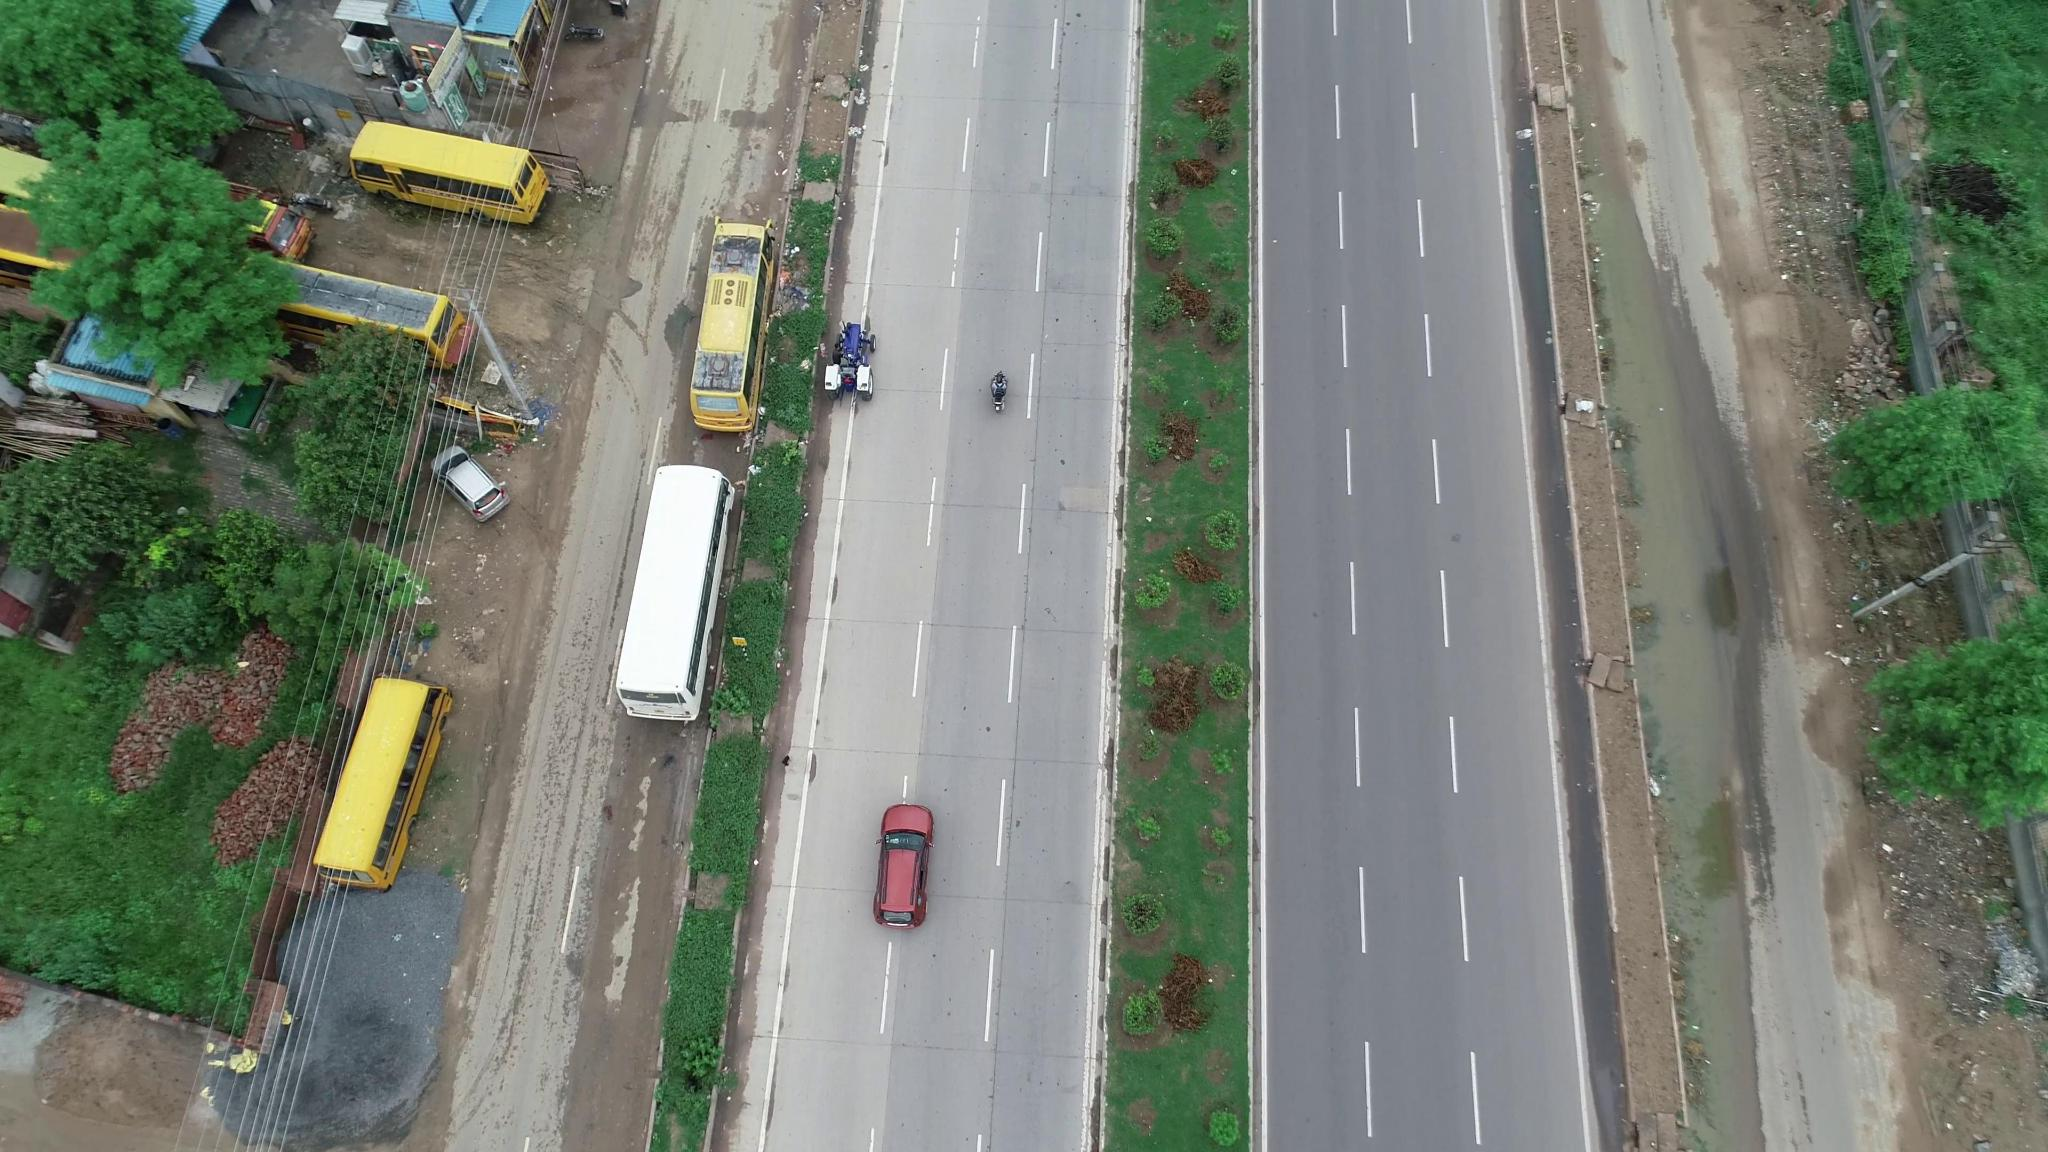Waterlogging: (1604, 276, 1741, 841)
